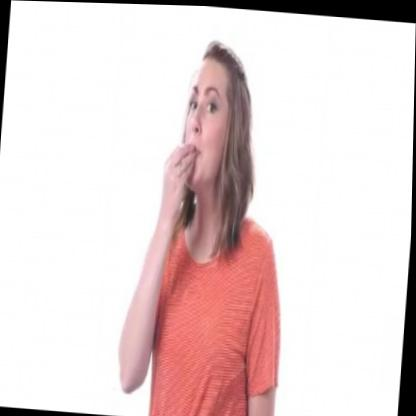Food: (159, 37, 256, 243)
